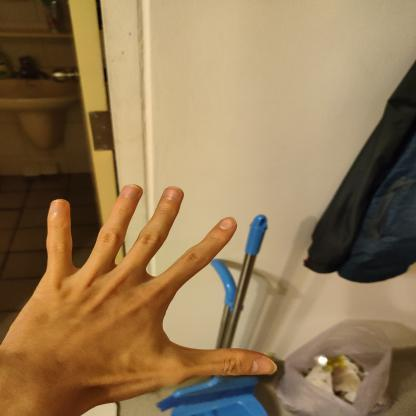bare_hand: (0, 177, 288, 415)
